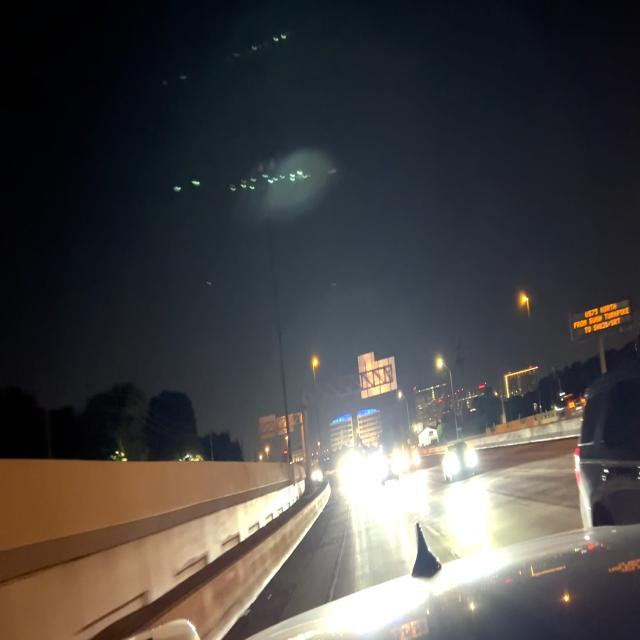back-of-sign: (358, 352, 397, 403)
